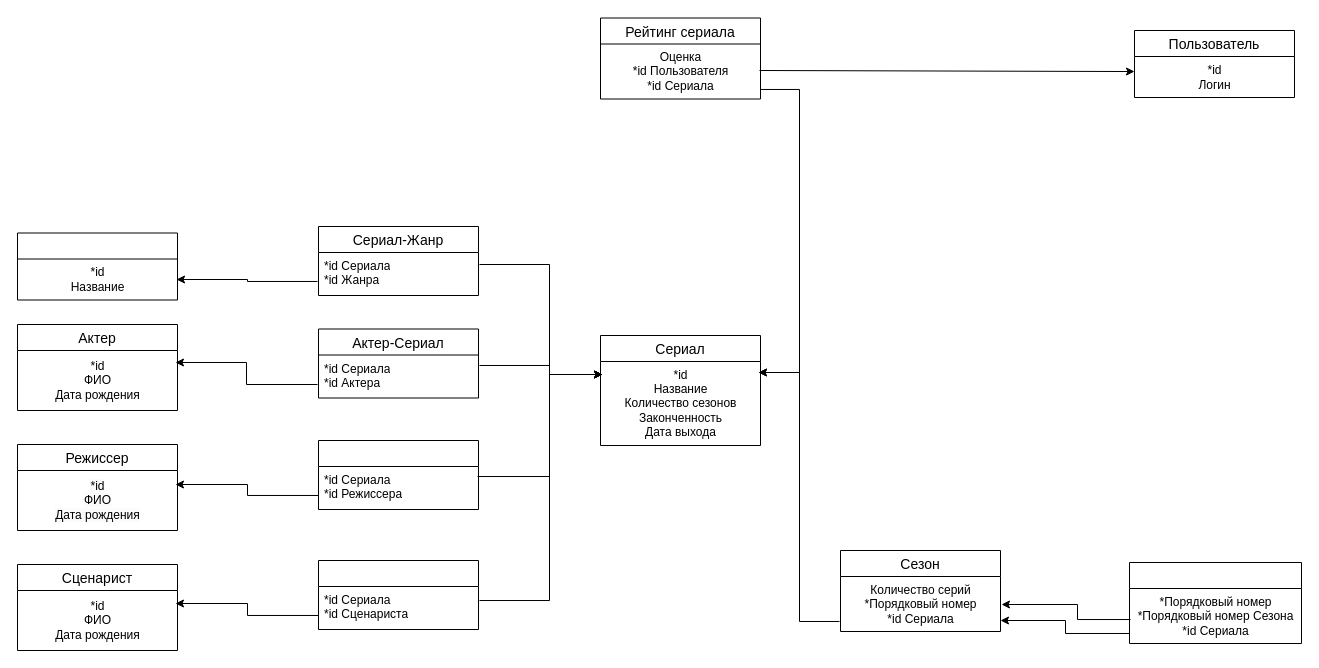
Some shapes in this 1319 by 668 pixel diagram are drawn without their labels. The box of each missing label's shape, as (x1, y1, x2, y2) in pixels:
Жанр: (16, 232, 178, 300)
Сериал-Режиссер: (318, 440, 478, 510)
Сериал-Сценарист: (318, 560, 478, 630)
Серия: (1128, 562, 1302, 644)
